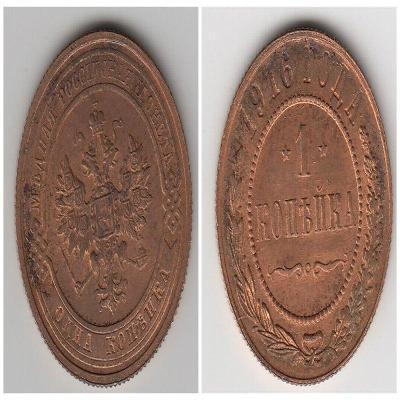numismatics: (216, 30, 392, 383), (16, 31, 191, 384)
